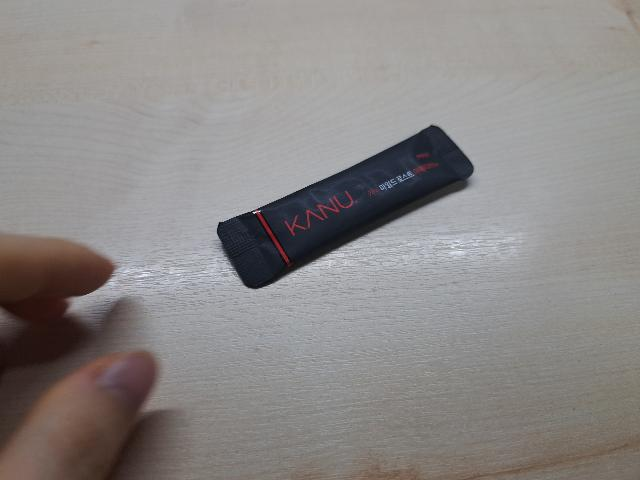KANU: (197, 114, 477, 300)
